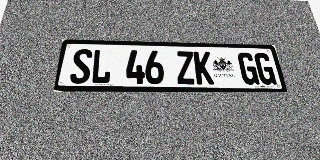4: (126, 50, 145, 84)
6: (145, 50, 164, 84)
G: (253, 53, 277, 85), (237, 52, 260, 85)
K: (193, 51, 214, 84)
L: (90, 49, 112, 84)
S: (69, 49, 93, 84)
Z: (175, 51, 196, 84)
